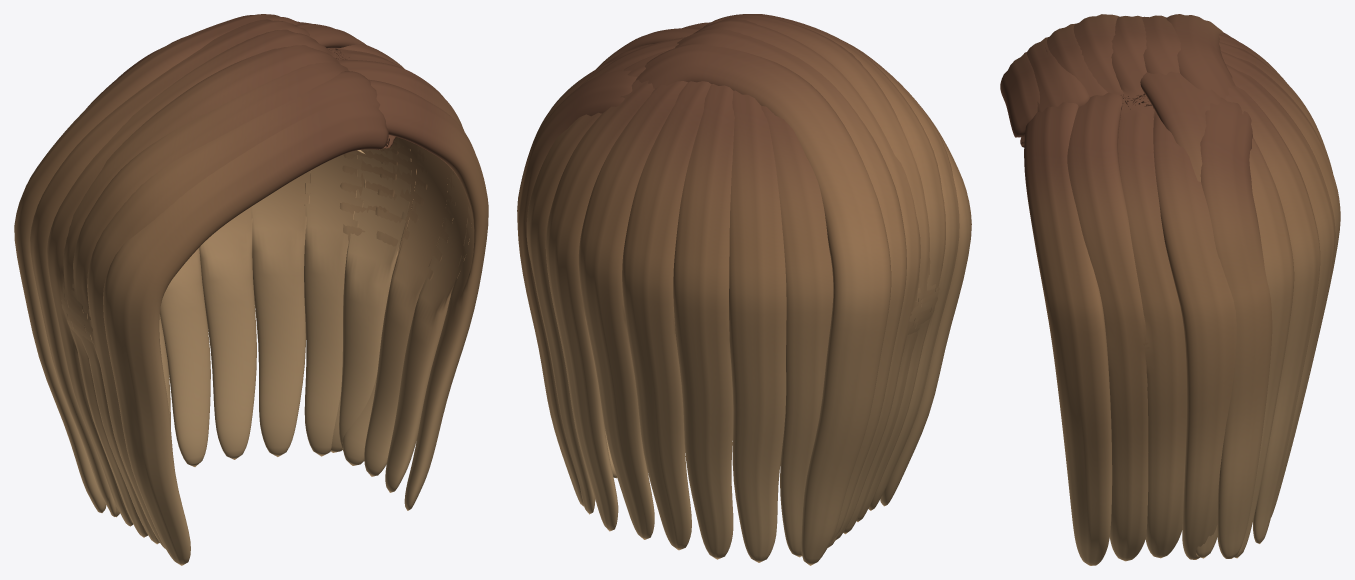
The model's file is Ombre-8e3577a87979253-hair.glb.
The picture shows the model from 3 angles, left to right: view 1: azimuth 30°, elevation 25°; view 2: azimuth 150°, elevation 25°; view 3: azimuth 270°, elevation 25°; orthographic projection.
Visible parts, largest first — view 1: 226 hair / Hair / sculpted 0.002, 226 hair / Hair / sculpted 1.004, 226 hair / Hair / sculpted 2.002; view 2: 226 hair / Hair / sculpted 0.002, 226 hair / Hair / sculpted 2.002, 226 hair / Hair / sculpted 1.004; view 3: 226 hair / Hair / sculpted 1.004, 226 hair / Hair / sculpted 2.002, 226 hair / Hair / sculpted 0.002.
Part boxes in pixels (x1,y1,x2,y2): 226 hair / Hair / sculpted 0.002: [14, 14, 455, 565]; 226 hair / Hair / sculpted 1.004: [47, 23, 488, 548]; 226 hair / Hair / sculpted 2.002: [30, 19, 471, 544]; 226 hair / Hair / sculpted 0.002: [545, 14, 971, 565]; 226 hair / Hair / sculpted 2.002: [517, 14, 945, 557]; 226 hair / Hair / sculpted 1.004: [517, 14, 959, 562]; 226 hair / Hair / sculpted 1.004: [1024, 15, 1335, 565]; 226 hair / Hair / sculpted 2.002: [1045, 15, 1340, 561]; 226 hair / Hair / sculpted 0.002: [1000, 14, 1332, 558].
Size of the model in its own units: 1.02 by 1.21 by 0.7803.
Materials: 4 (4 with a texture image).
